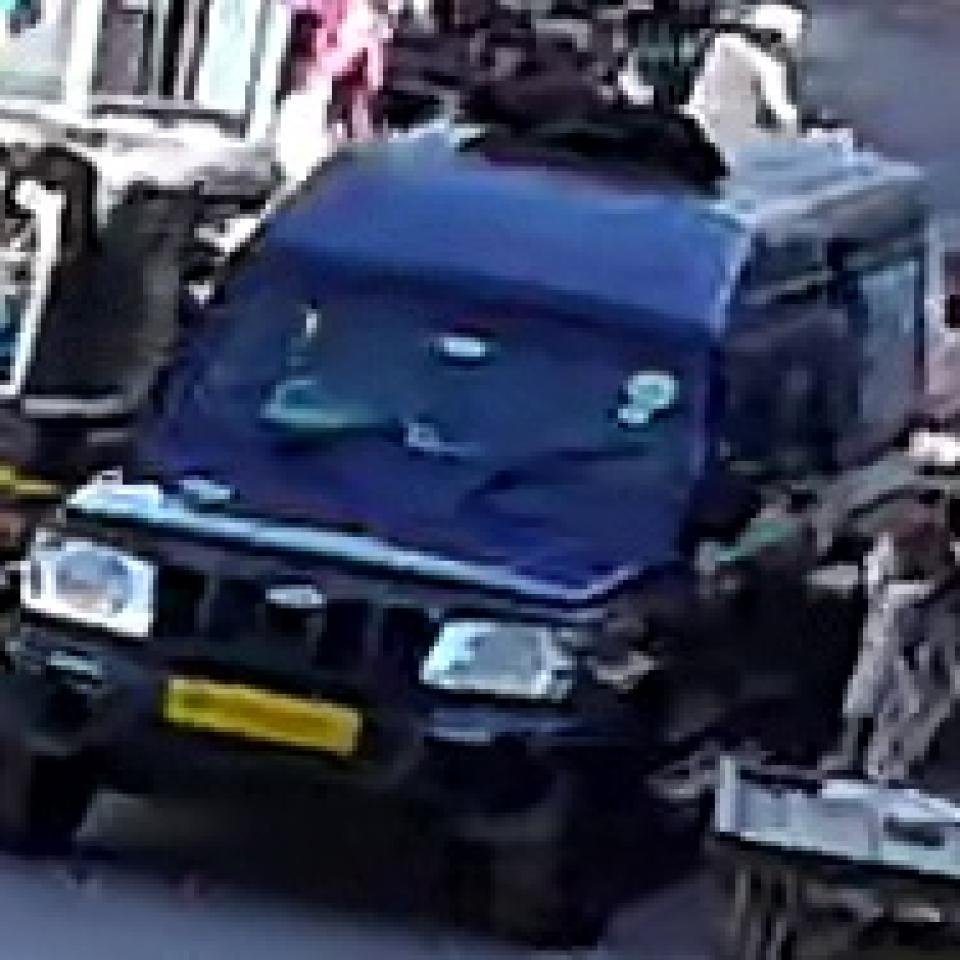head_light: (14, 531, 163, 641), (421, 617, 586, 703)
